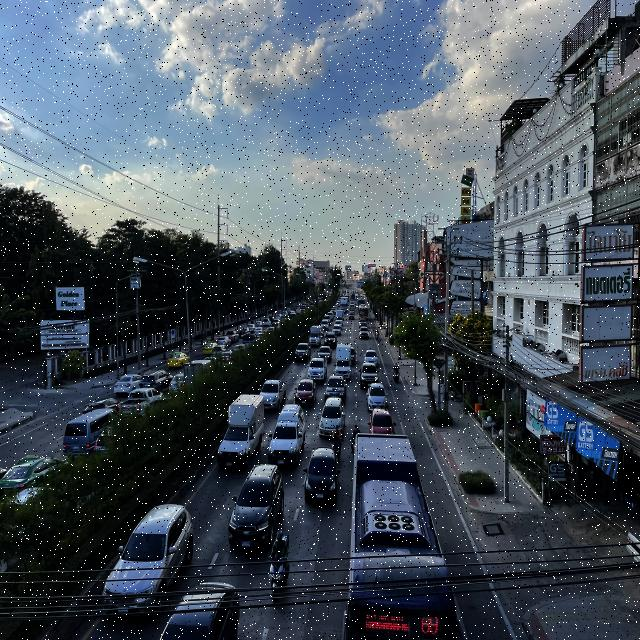bike: (269, 528, 291, 603), (331, 424, 343, 459), (352, 425, 362, 457), (392, 361, 400, 383)
bus: (344, 433, 456, 640)
car: (99, 502, 199, 620), (157, 577, 241, 640), (228, 464, 285, 554), (304, 448, 340, 504), (319, 398, 346, 438), (259, 379, 287, 412), (323, 375, 348, 405), (294, 380, 316, 408), (367, 383, 388, 412)
truck: (217, 394, 266, 469), (267, 404, 306, 468), (334, 344, 351, 379), (307, 355, 327, 383)
